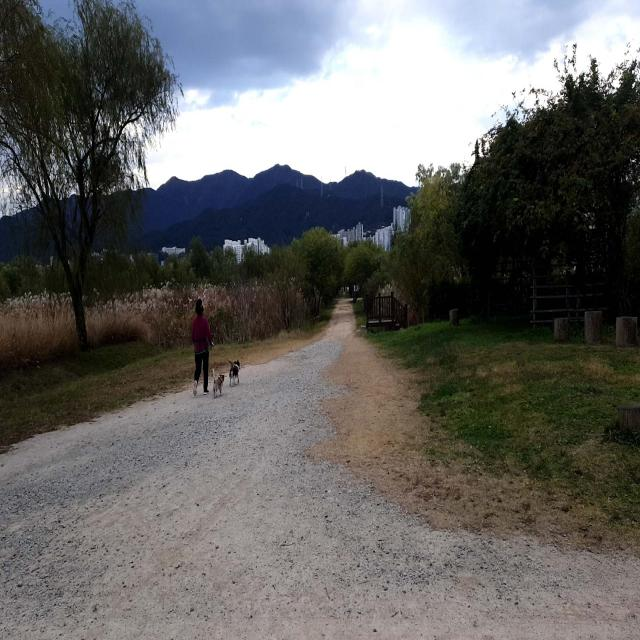Leashed_Dog: (203, 340, 240, 388), (202, 342, 226, 399)
